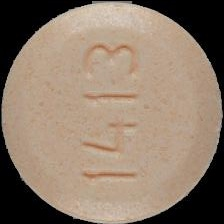12634-445: (0, 0, 224, 224)
